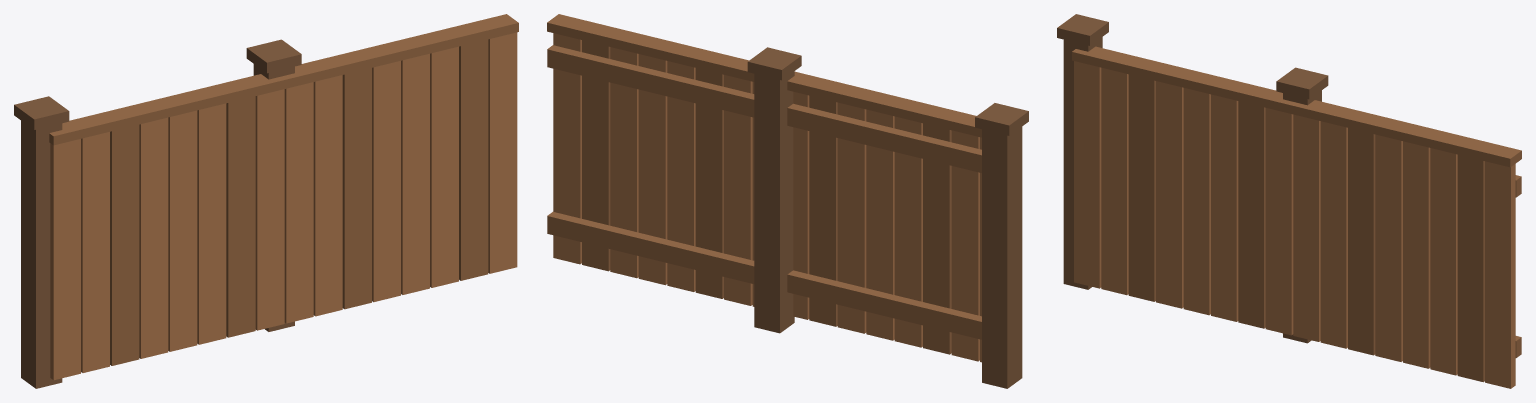
The model's file is privacy-fence.glb.
3 views of the same model, side by side, from view 1: azimuth 30°, elevation 25°; view 2: azimuth 150°, elevation 25°; view 3: azimuth 330°, elevation 25° (orthographic). The views are drawn at different scales.
Visible parts, largest first — view 1: PrivacyFence_Boards, PrivacyFence_Boards2, PrivacyFence_Posts; view 2: PrivacyFence_Boards, PrivacyFence_Boards2, PrivacyFence_Posts; view 3: PrivacyFence_Boards, PrivacyFence_Boards2, PrivacyFence_Posts.
Boxes of the visible parts, <box> form: PrivacyFence_Boards: <box>50,32,517,380</box>; PrivacyFence_Boards2: <box>49,14,518,365</box>; PrivacyFence_Posts: <box>14,39,301,388</box>; PrivacyFence_Boards: <box>553,33,981,362</box>; PrivacyFence_Boards2: <box>547,14,981,354</box>; PrivacyFence_Posts: <box>747,47,1028,388</box>; PrivacyFence_Boards: <box>1074,61,1515,388</box>; PrivacyFence_Boards2: <box>1072,46,1521,382</box>; PrivacyFence_Posts: <box>1057,14,1328,343</box>.
Bounding box in the file's own units: 16.6 × 8.95 × 1.31.
